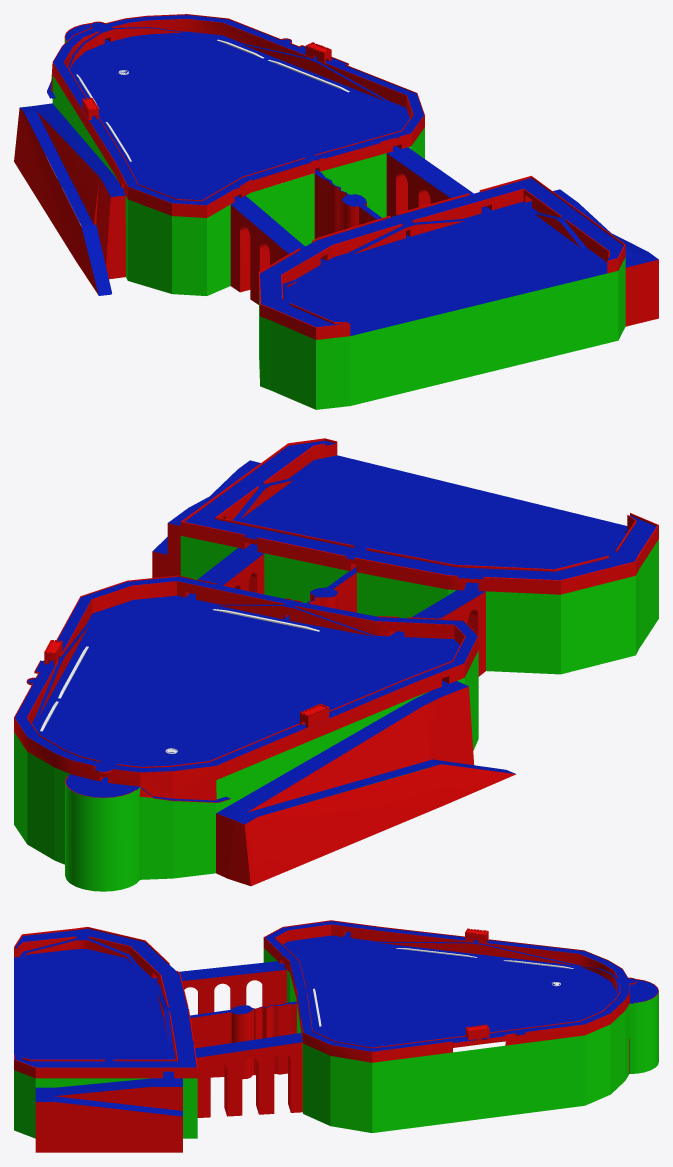
The model's file is Ville_Complete_03_Scale_x100.FBX.
3 views of the same model, one above another, from view 1: azimuth 30°, elevation 25°; view 2: azimuth 150°, elevation 25°; view 3: azimuth 270°, elevation 25° (orthographic). The views are drawn at different scales.
Parts seen in each view (by area): view 1: Object009, Model_Mesh27_Group27, Model_Mesh28_Group28, Model_Mesh26_Group26, Model_Muraille_Sud_Group33, Model_Mesh8_Group8, Mesh1_Group1_Model, Model_Mesh2_Group2, Model_Mesh25_Group25, Group1_Model_Pente, Model_Mesh16_Group16, Model_Mesh19_Group19 (+1 smaller); view 2: Object009, Model_Mesh8_Group8, Model_Mesh27_Group27, Model_Mesh26_Group26, Model_Muraille_Sud_Group33, Model_Mesh28_Group28, Model_Mesh24_Group24, Model_Mesh9_Group9, Model_Mesh15_Group15, Mesh1_Group1_Model, Group1_Model_Pente, Model_Mesh25_Group25 (+3 smaller); view 3: Object009, Model_Mesh28_Group28, Model_Mesh26_Group26, Group1_Model_Pente, Model_Muraille_Sud_Group33, Model_Mesh2_Group2, Model_Mesh25_Group25, Model_Mesh27_Group27, Mesh1_Group1_Model, Model_Mesh24_Group24, Model_Mesh21_Group21, Model_Mesh18_Group18.
Part boxes in pixels (bbox=[...]): Object009: bbox=[20, 24, 658, 335]; Model_Mesh27_Group27: bbox=[259, 257, 625, 409]; Model_Mesh28_Group28: bbox=[52, 75, 424, 295]; Model_Mesh26_Group26: bbox=[52, 14, 424, 217]; Model_Muraille_Sud_Group33: bbox=[259, 175, 625, 339]; Model_Mesh8_Group8: bbox=[14, 108, 125, 295]; Mesh1_Group1_Model: bbox=[230, 201, 302, 304]; Model_Mesh2_Group2: bbox=[386, 153, 450, 216]; Model_Mesh25_Group25: bbox=[314, 173, 376, 238]; Group1_Model_Pente: bbox=[625, 259, 658, 326]; Model_Mesh16_Group16: bbox=[241, 43, 388, 101]; Model_Mesh19_Group19: bbox=[349, 219, 465, 254]; Object009: bbox=[32, 455, 627, 824]; Model_Mesh8_Group8: bbox=[216, 686, 516, 886]; Model_Mesh27_Group27: bbox=[180, 536, 658, 674]; Model_Mesh26_Group26: bbox=[14, 575, 478, 786]; Model_Muraille_Sud_Group33: bbox=[180, 438, 658, 594]; Model_Mesh28_Group28: bbox=[14, 650, 478, 879]; Model_Mesh24_Group24: bbox=[65, 776, 140, 891]; Model_Mesh9_Group9: bbox=[139, 766, 230, 802]; Model_Mesh15_Group15: bbox=[218, 604, 375, 636]; Mesh1_Group1_Model: bbox=[441, 591, 485, 676]; Group1_Model_Pente: bbox=[152, 523, 180, 577]; Model_Mesh25_Group25: bbox=[309, 572, 356, 612]; Object009: bbox=[14, 931, 658, 1116]; Model_Mesh28_Group28: bbox=[263, 948, 629, 1132]; Model_Mesh26_Group26: bbox=[263, 920, 636, 1062]; Group1_Model_Pente: bbox=[35, 1087, 182, 1152]; Model_Muraille_Sud_Group33: bbox=[14, 927, 197, 1078]; Model_Mesh2_Group2: bbox=[196, 1042, 302, 1117]; Model_Mesh25_Group25: bbox=[190, 1004, 296, 1079]; Model_Mesh27_Group27: bbox=[14, 1070, 197, 1138]; Mesh1_Group1_Model: bbox=[182, 962, 286, 1014]; Model_Mesh24_Group24: bbox=[629, 979, 658, 1073]; Model_Mesh21_Group21: bbox=[378, 941, 575, 965]; Model_Mesh18_Group18: bbox=[19, 938, 136, 964].
Bounding box in the file's own units: 35649 × 58177 × 8945.
